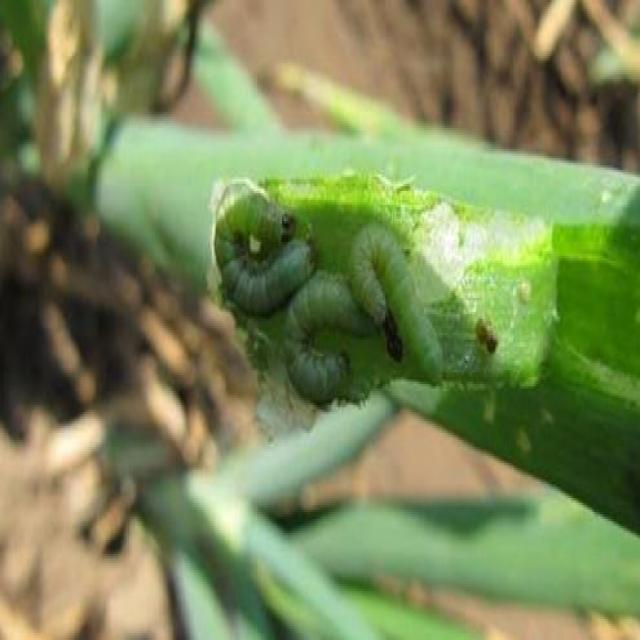BeetArmyWorm-Larva-: (348, 215, 448, 386), (210, 175, 321, 316), (282, 268, 389, 412)
